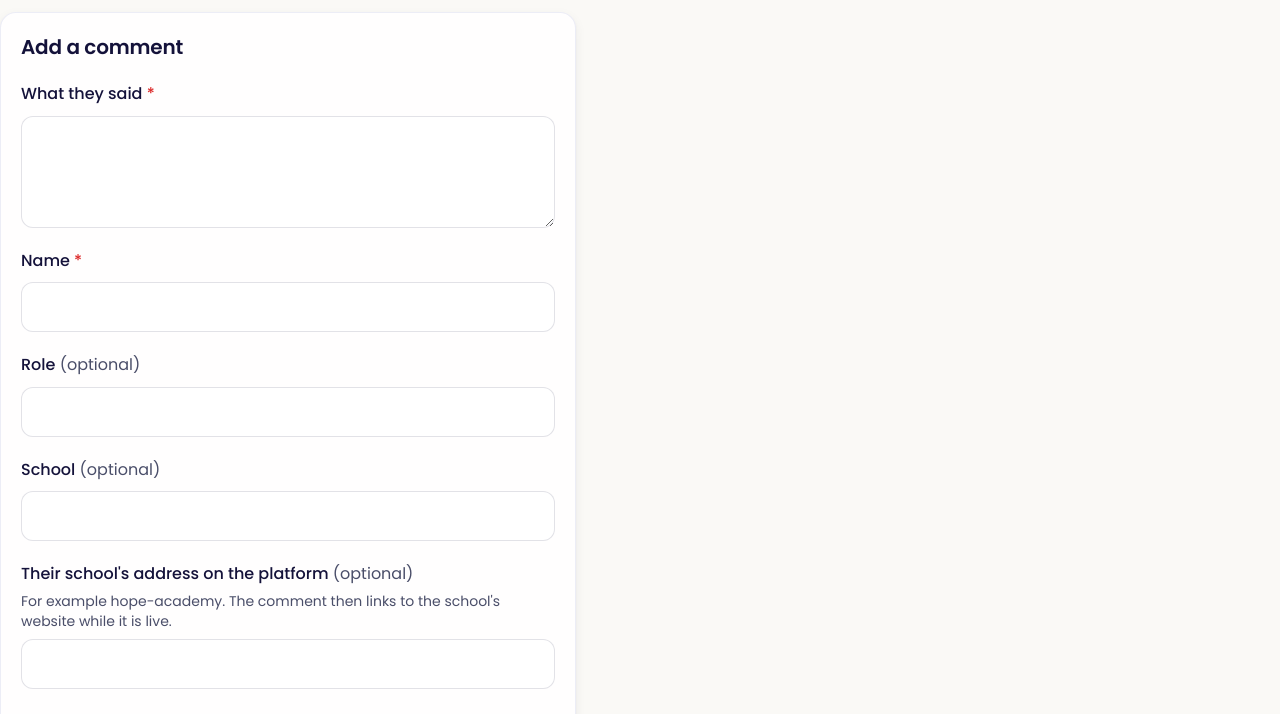
Test: TestimonialsManager › adds a comment from a school
Type "Parents find us easily now." into the text box labelled "What they said *".
click(288, 172); type("Parents find us easily now.")  # box [21,116,555,228]
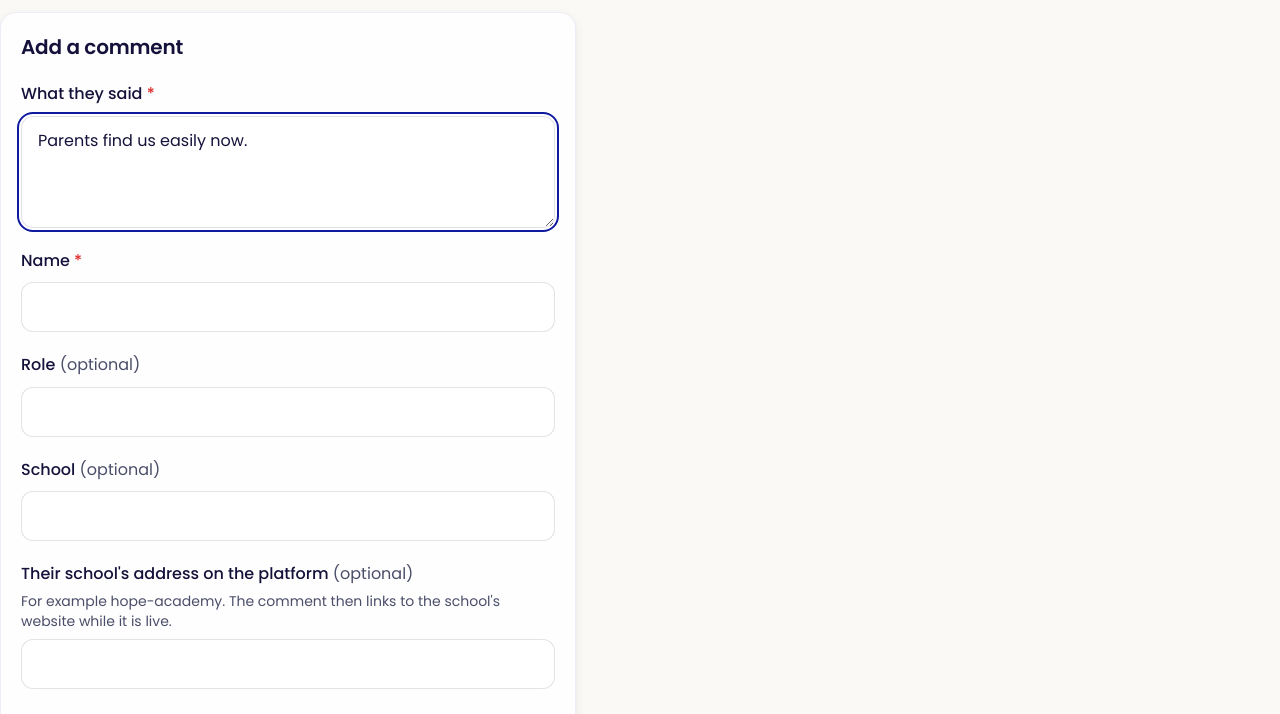
Type "Mrs Owusu" into the field labelled "Name *".
click(288, 307); type("Mrs Owusu")  # box [21,282,555,332]
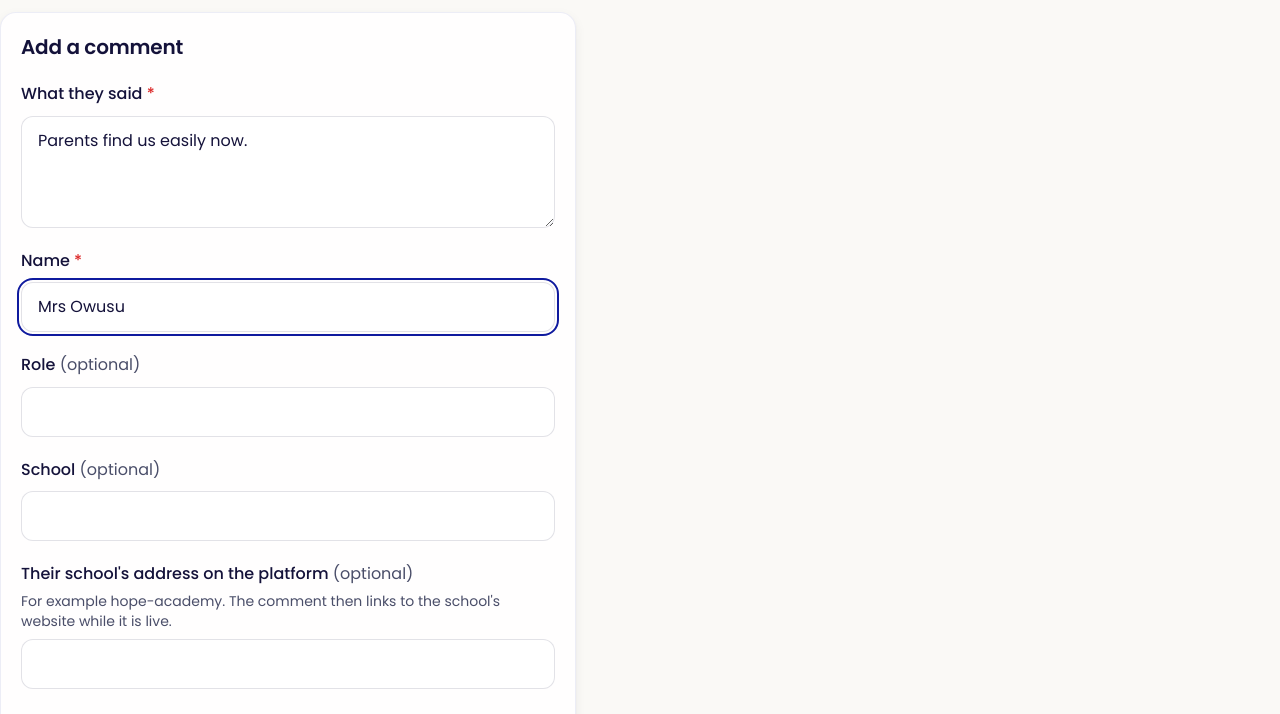
Type "Head Teacher" into the field labelled "Role (optional)".
click(288, 412); type("Head Teacher")  # box [21,387,555,437]
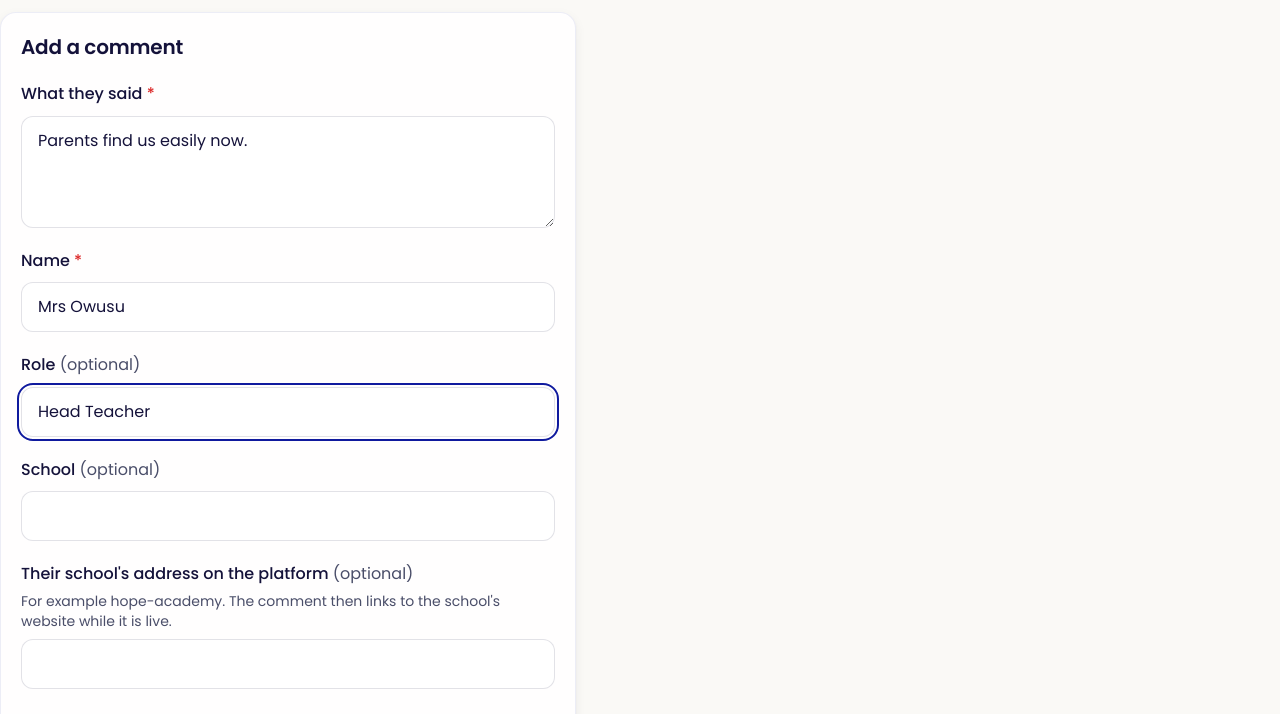
Type "Hope Academy" into the field labelled "School (optional)".
click(288, 516); type("Hope Academy")  # box [21,491,555,541]
(page scrolled)
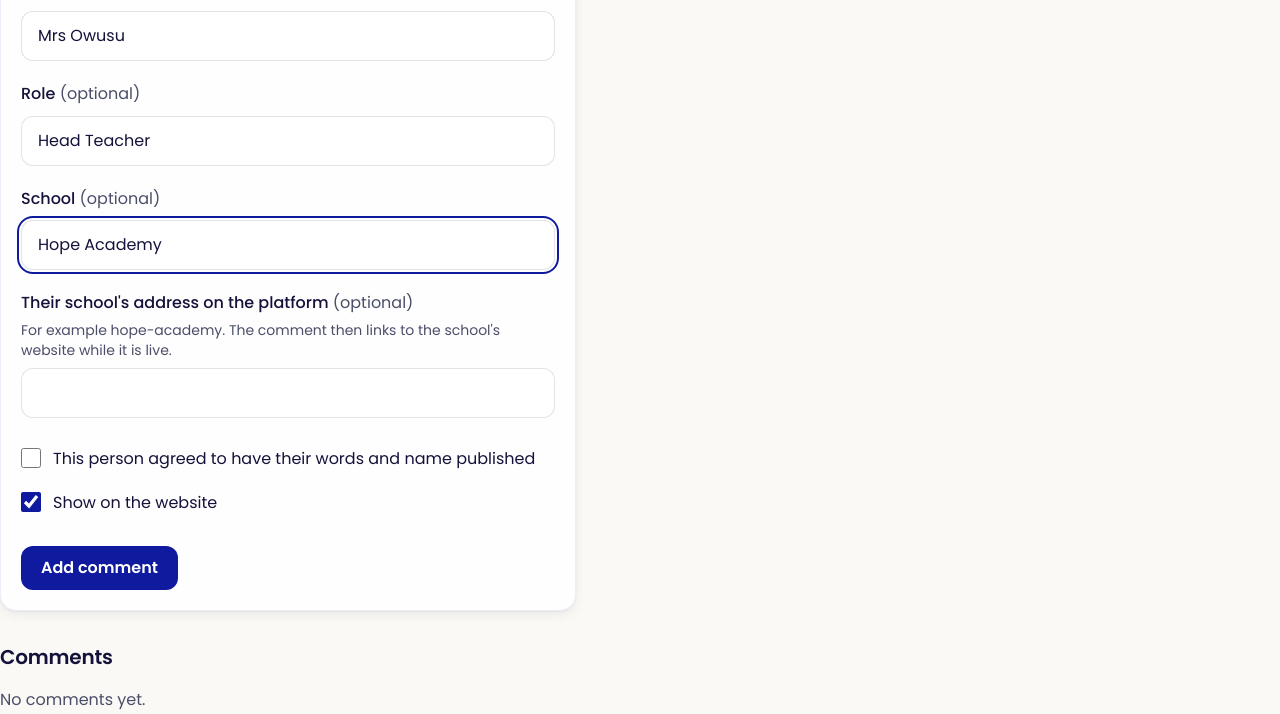
Click the checkbox labelled "This person agreed to have their words and name published".
click(31, 458)  # box [21,448,41,468]
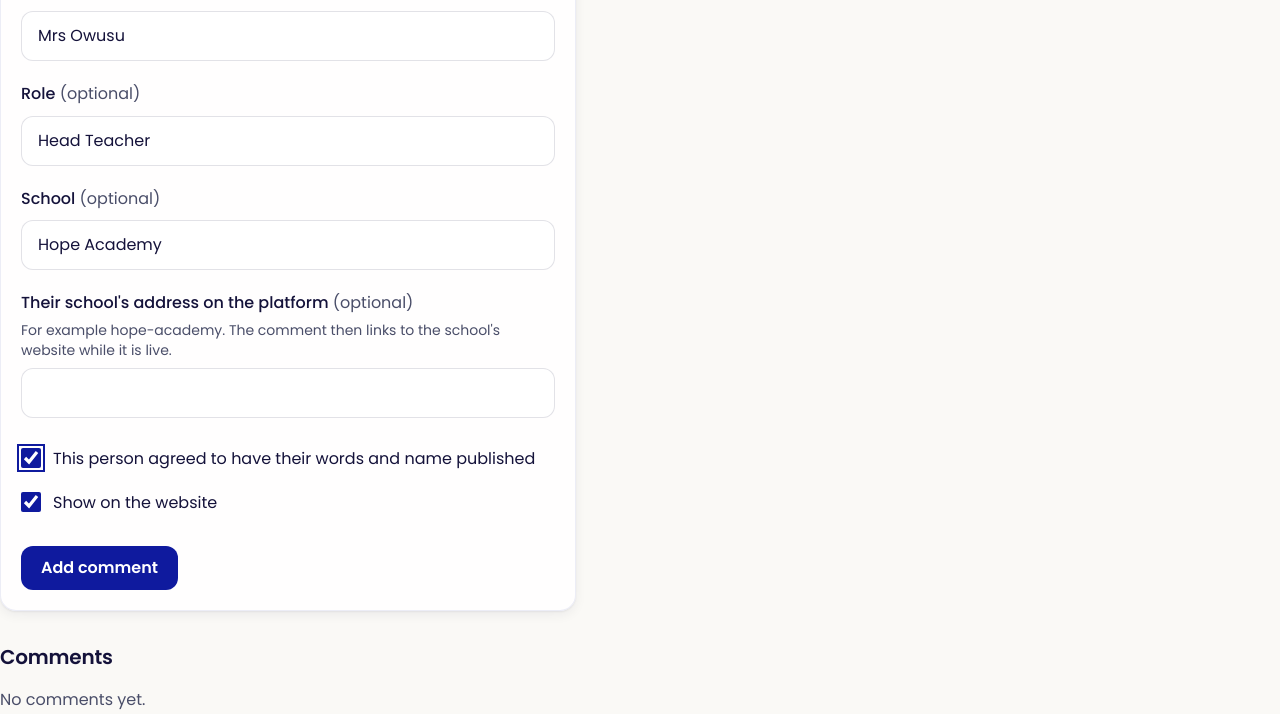
Click the button "Add comment".
click(100, 568)  # box [21,546,178,590]
(page scrolled)
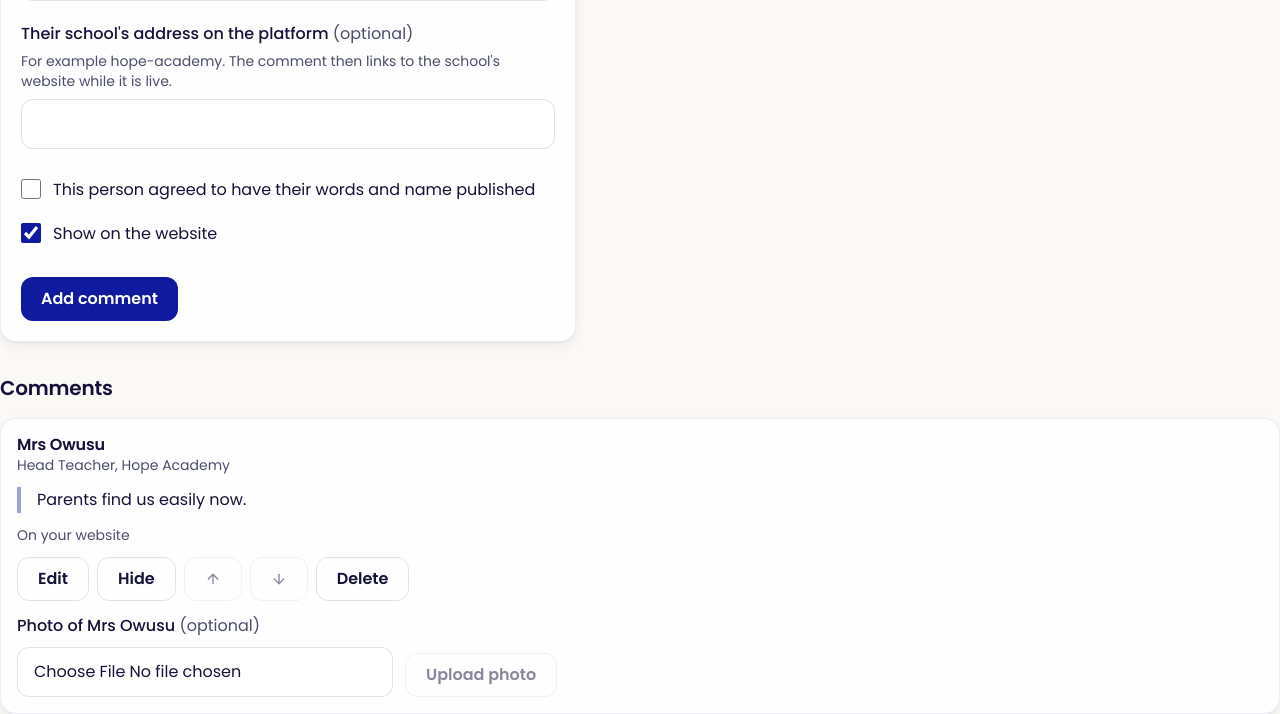
Check: the element "Mrs Owusu" is shown, box [0,418,1279,713]
